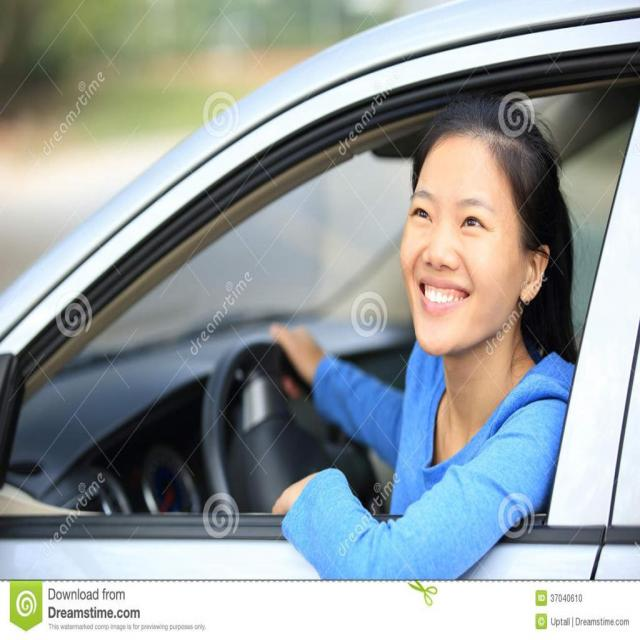nomask: (402, 138, 522, 352)
